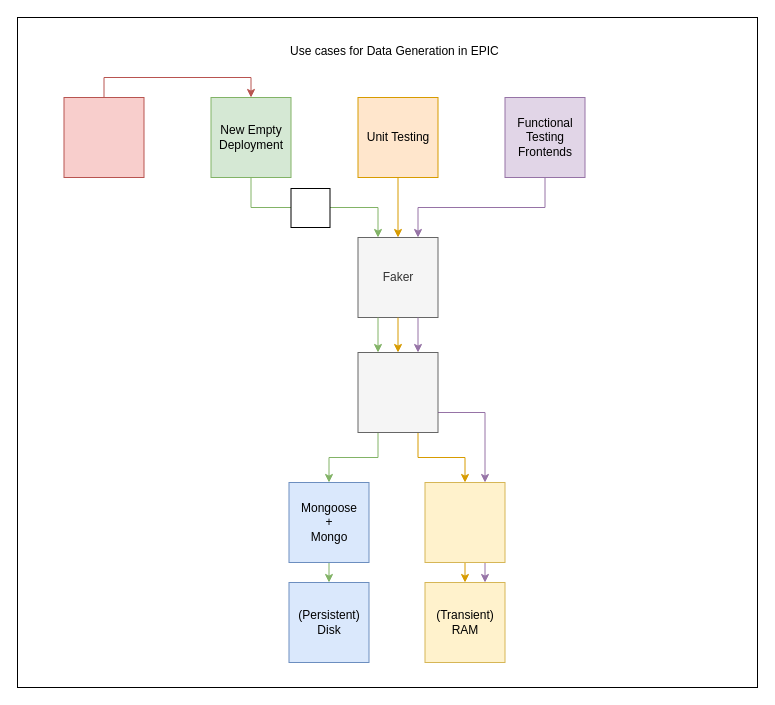
The diagram is 775 pixels wide and 705 high, and some of its shapes have lost their labels. Each missing label, with the centre of its shape:
"Factory-Girl" belongs at (397,392).
"Mockgoose Mongo Memory Server" belongs at (464,522).
"Script" belongs at (310,208).
"Security Scans" belongs at (103,137).
